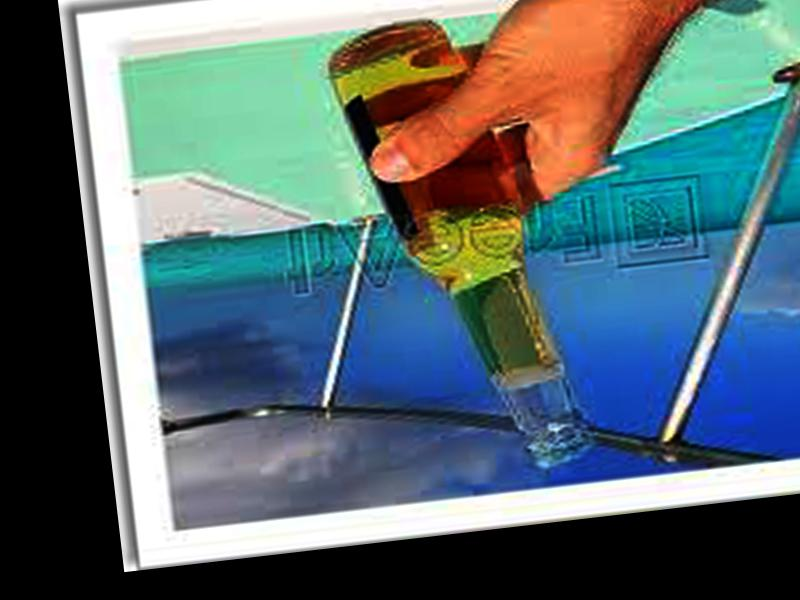Beer: (321, 11, 606, 484)
